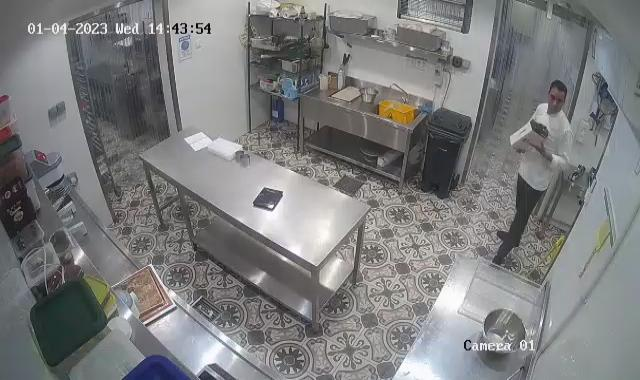no_hairnet: (545, 79, 570, 108)
